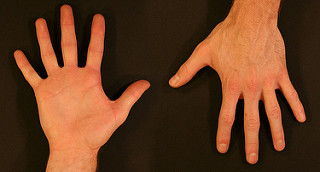palm: (36, 68, 113, 151)
